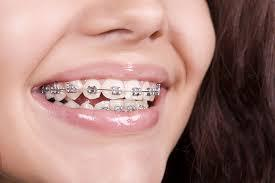Braces: (40, 83, 165, 115)
